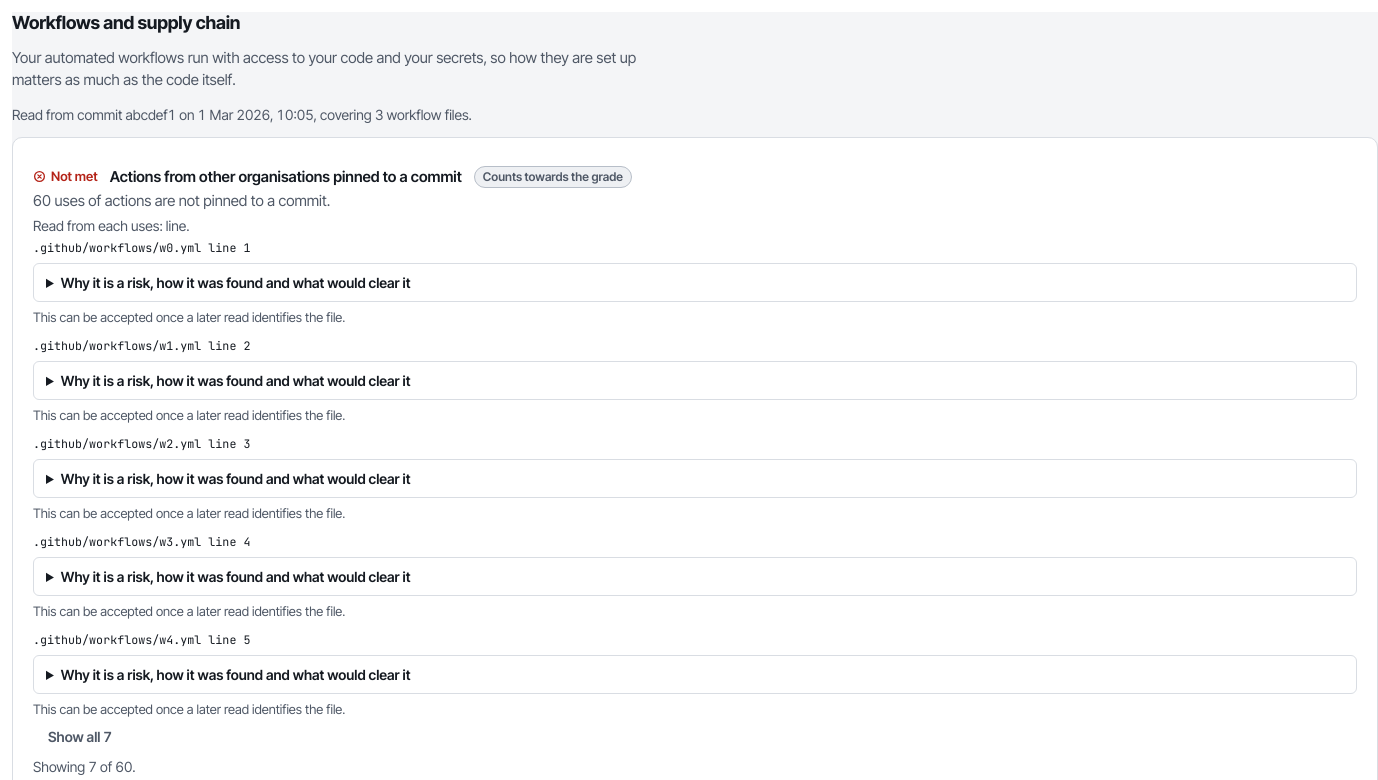
Test: SupplyChainCard › shows five items and the rest behind a button, and says how many there are in all
Check: the text ".github/workflows/w0.yml line 1" is shown 5 times, box [33, 240, 250, 257]; [33, 338, 250, 355]; [33, 436, 250, 453]; [33, 534, 250, 551]; [33, 632, 250, 649]
Check: the text "Showing 7 of 60." is shown, box [33, 758, 136, 775]
Click the button "Show all 7".
click(80, 738)  # box [33, 720, 127, 756]
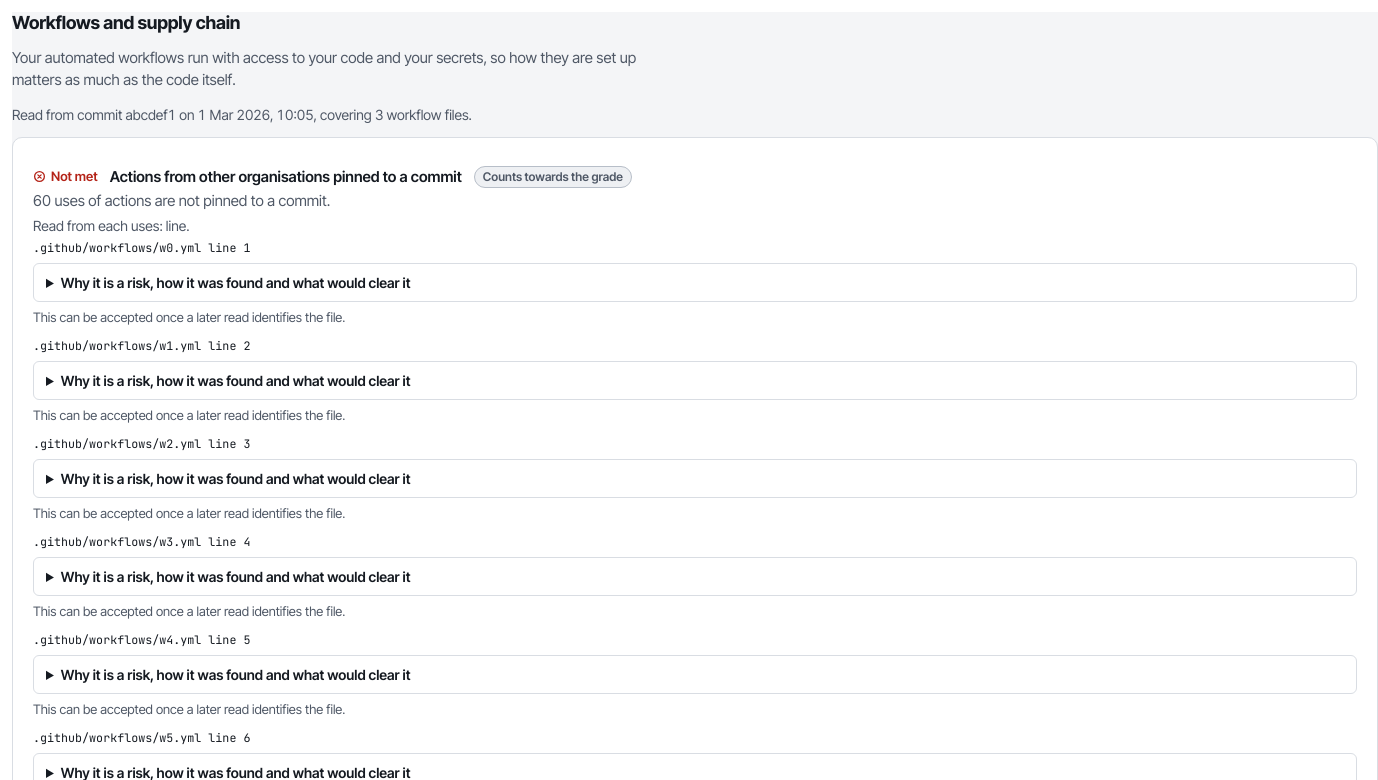
Check: the text ".github/workflows/w0.yml line 1" is shown 7 times
